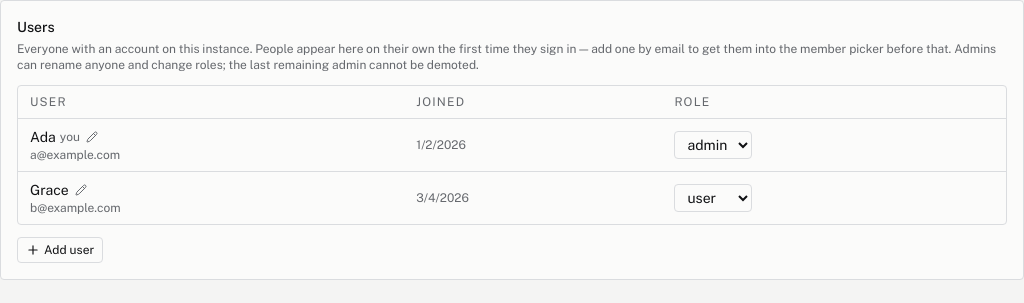
Test: renaming a user › reports a failed rename and keeps the editor open
The image size is (1024, 303).
Expected: the text "Grace" is shown, [30,180,69,200]
Click the button named "Rename b@example.com" at (81, 190), box [73,182,89,198]
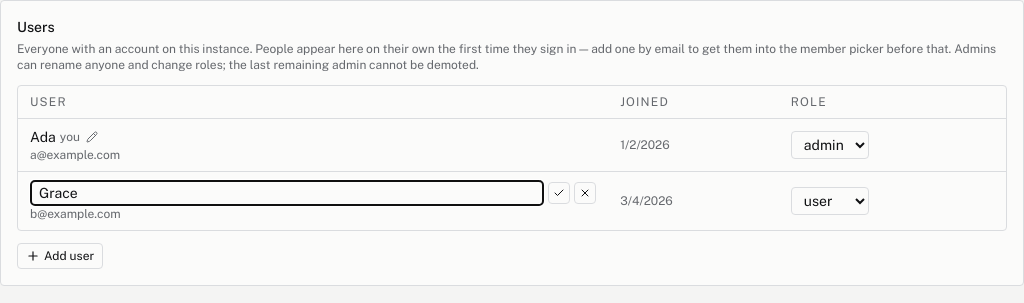
Replace the text in the field named "display name for b@example.com" with "Grace Hopper" at (287, 193), box [30,180,544,206]
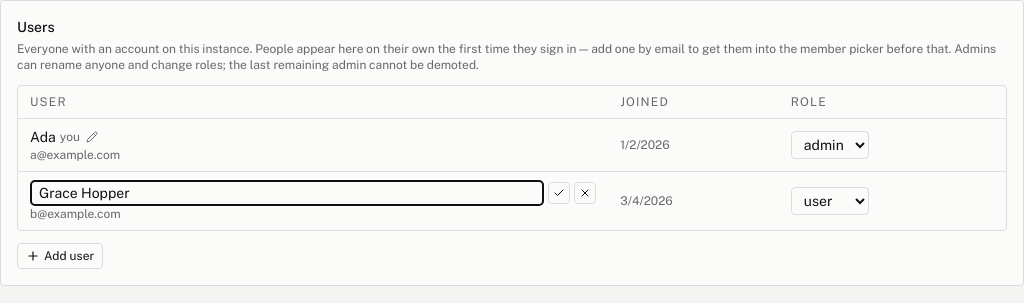
Click the button named "save name for b@example.com" at (559, 193), box [548,182,570,204]
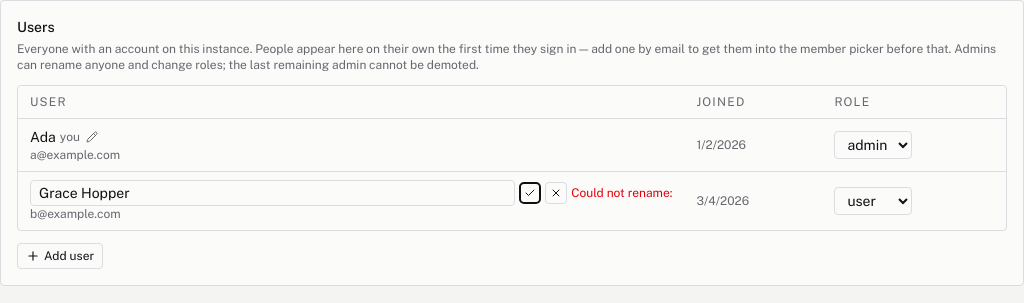
Expected: the message shows "Could not rename", [571,186,672,200]
